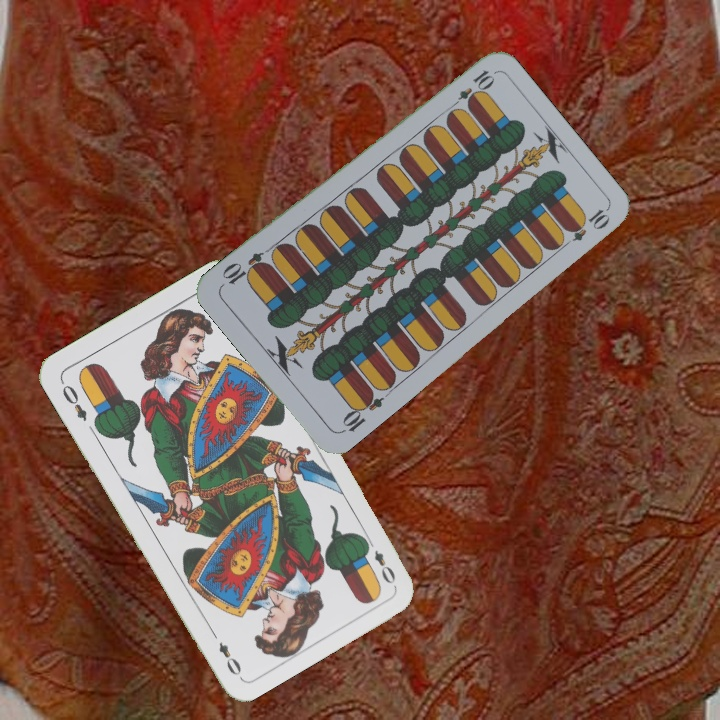E10: (337, 386, 386, 436), (446, 65, 496, 113)
EO: (361, 534, 399, 587), (58, 380, 90, 424)
